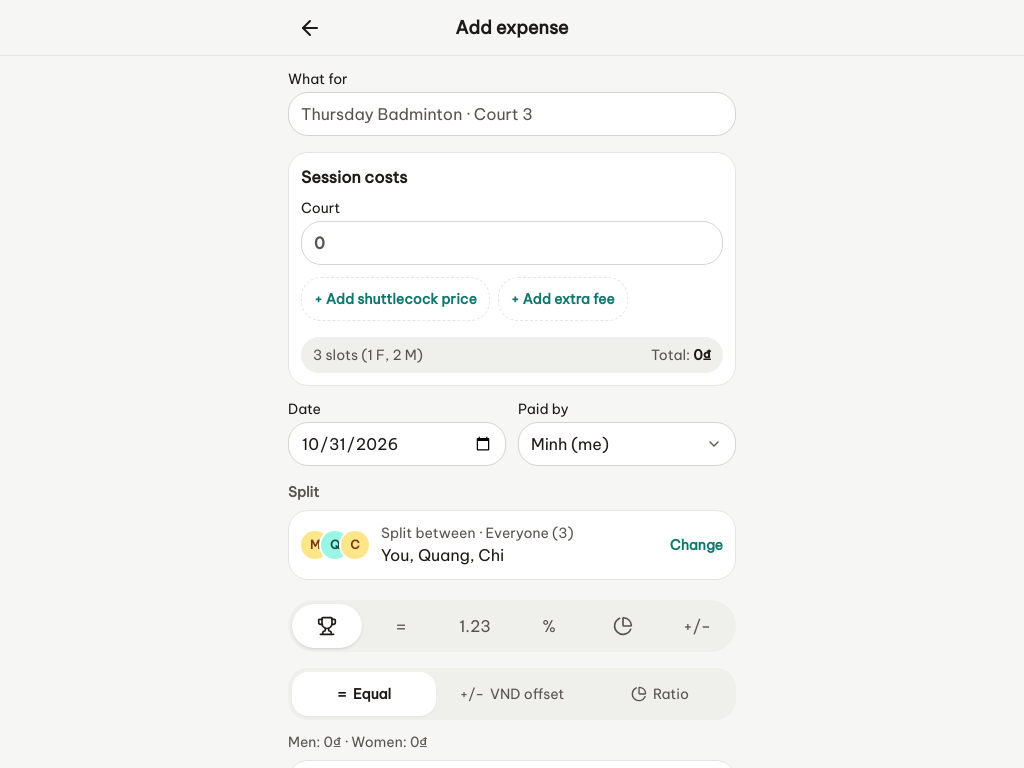
Test case: Sport ExpenseForm and ExpenseDetails bill sharing › renders two-part drawer with guest steppers and fixed override, computing 1F · 2M (3 slots) and overriding with fixed amount
Expected: the field labelled "What for" is shown, [288, 92, 736, 136]
Type "300k" into the field labelled "Court".
click(512, 243); type("300k")  # box [301, 221, 723, 265]
(page scrolled)
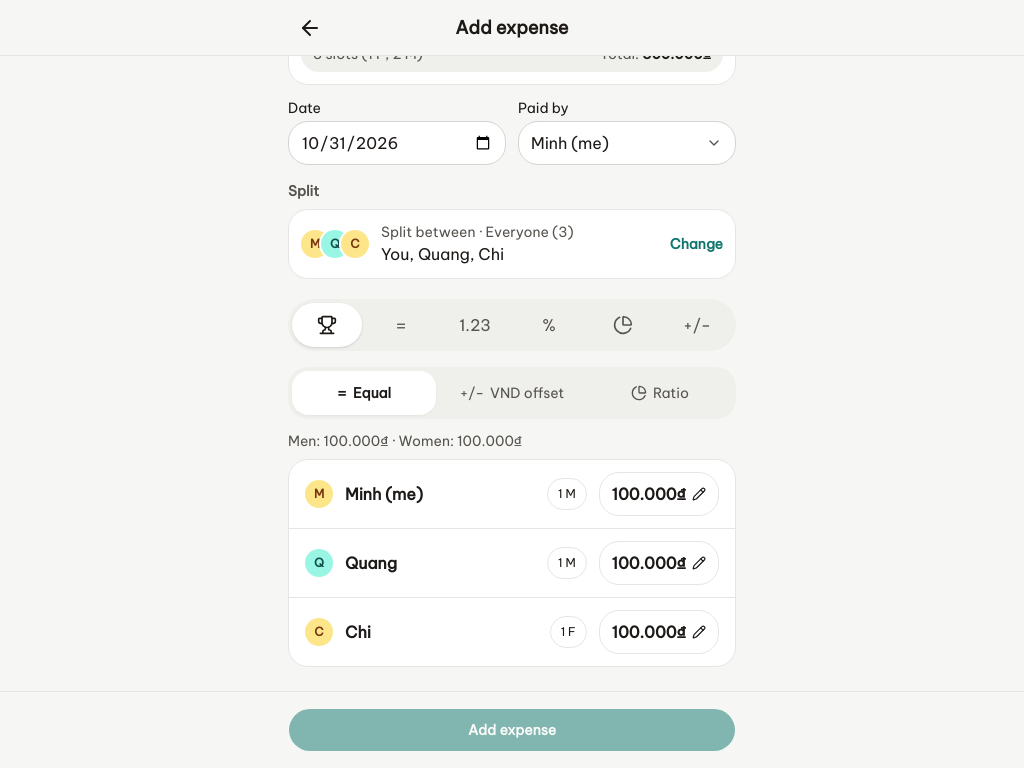
Open Quang's drawer
Click the button with test id "sport-share-btn-p-quang".
click(659, 563)  # box [599, 541, 719, 585]
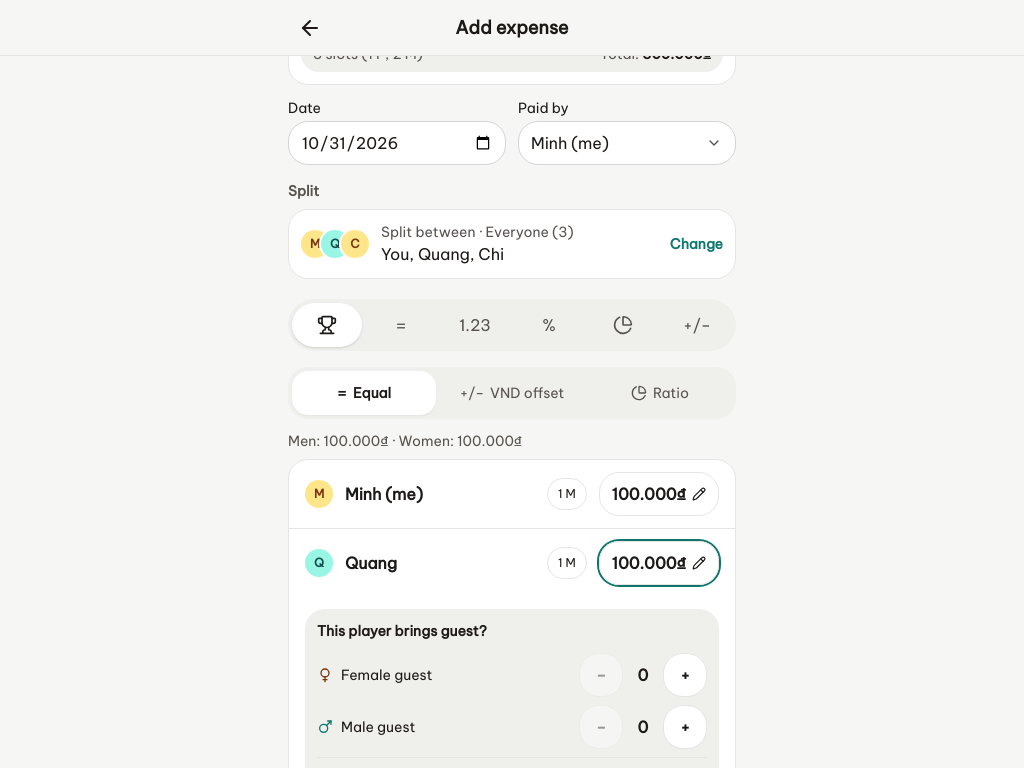
Expected: the text "This player brings guest?" is shown, [317, 622, 487, 640]
Expected: the text with test id "guest-f-p-quang" reads "0", [638, 665, 648, 685]
Expected: the text with test id "guest-m-p-quang" reads "0", [638, 717, 648, 737]
Increment 1 Female guest + 1 Male guest
Click the button named "Increase female guest for Quang".
click(685, 675)  # box [663, 653, 707, 697]
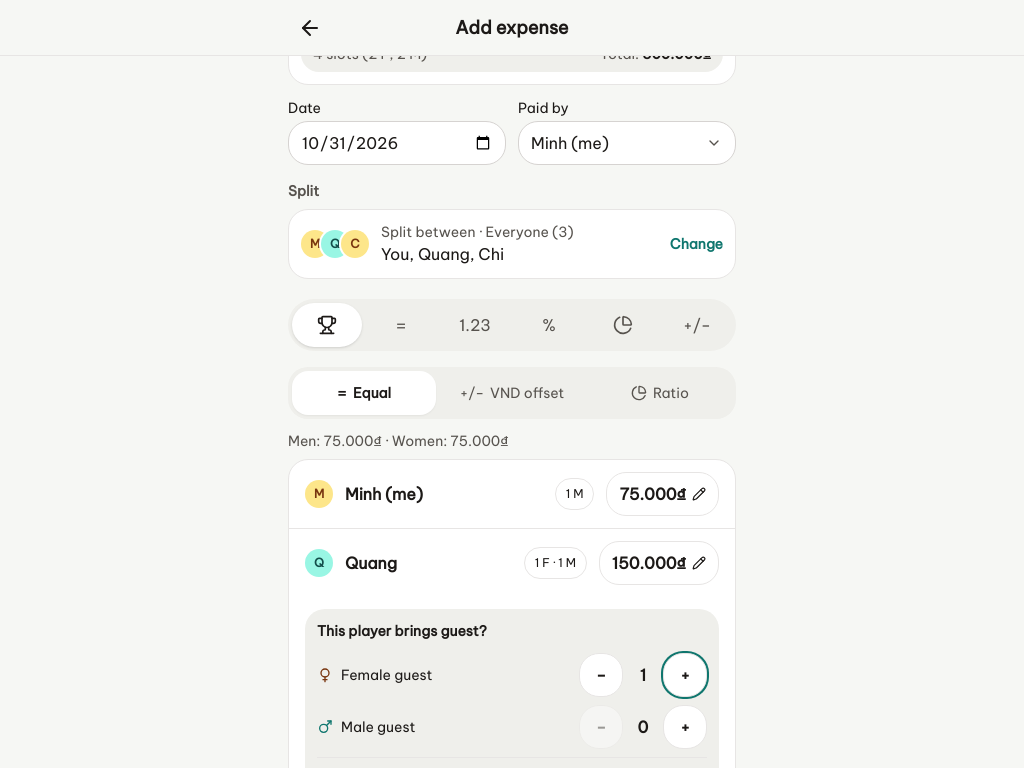
Click the button named "Increase male guest for Quang".
click(685, 727)  # box [663, 705, 707, 749]
(page scrolled)
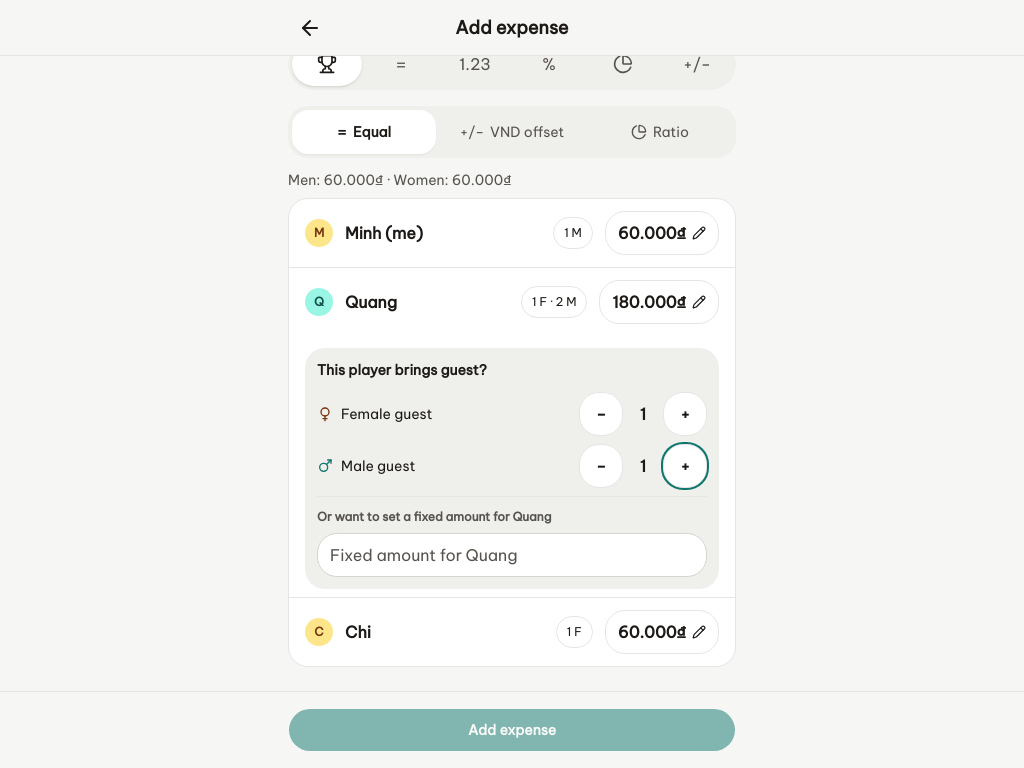
Expected: the text with test id "guest-f-p-quang" reads "1", [640, 404, 646, 424]
Expected: the text with test id "guest-m-p-quang" reads "1", [640, 456, 646, 476]
Expected: the element with test id "split-row-Quang" shows "1 F · 2 M", [521, 286, 587, 318]
Now set fixed override for Quang
Type "50k" into the field labelled "Or want to set a fixed amount for Quang".
click(512, 555); type("50k")  # box [317, 533, 707, 577]
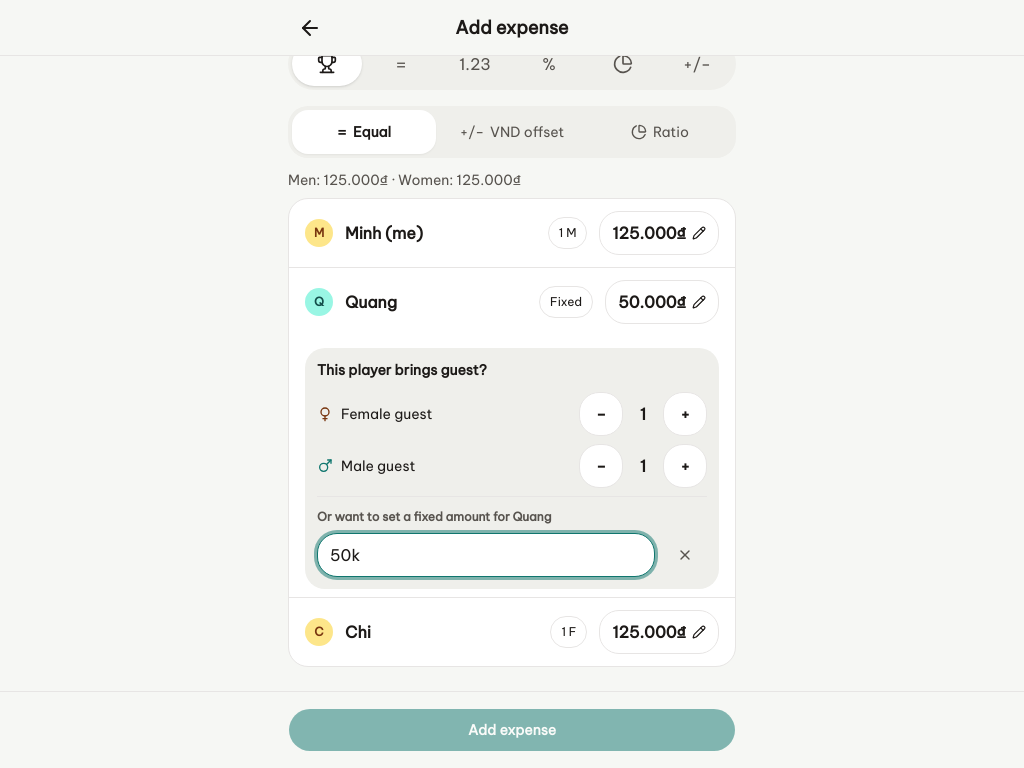
Expected: the element with test id "split-row-Quang" shows "Fixed", [539, 286, 593, 318]
Expected: the button with test id "sport-share-btn-p-quang" shows "50.000", [605, 280, 719, 324]
